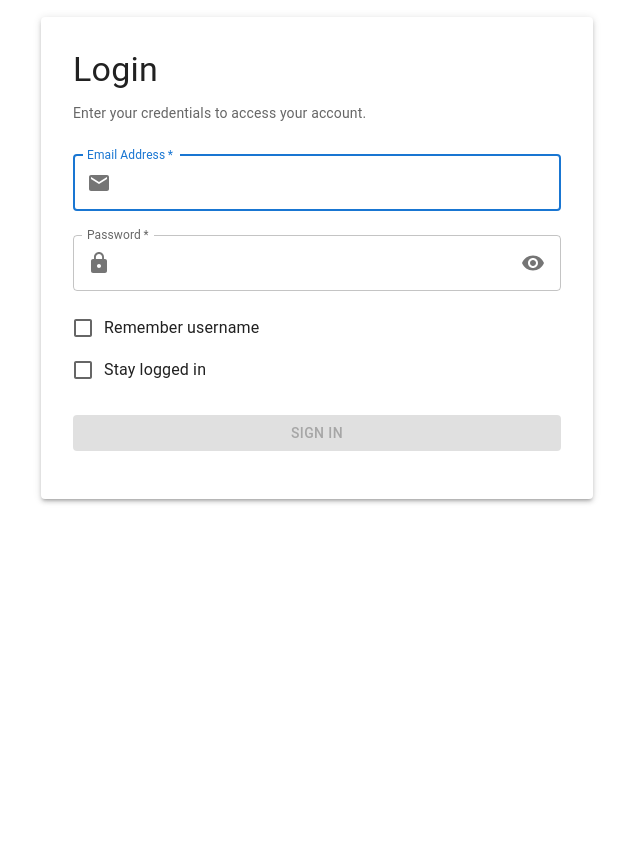
Test: Login Page › shows friendly network error message on network failure
Type "john@example.com" into the field with id "email" at [340, 183], box [119, 155, 561, 211]
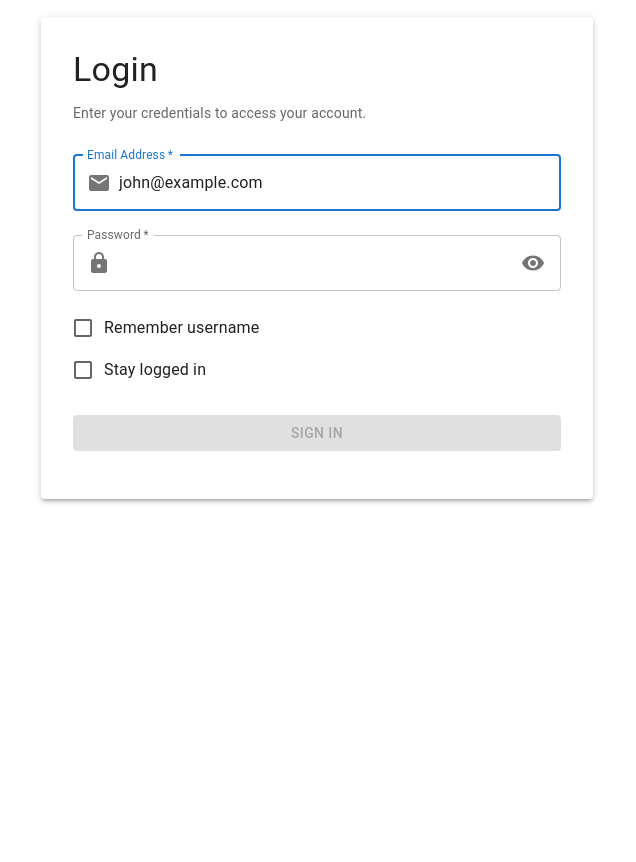
Type "Test123@" into the password field labelled "Password *" at [314, 263], box [119, 235, 508, 291]
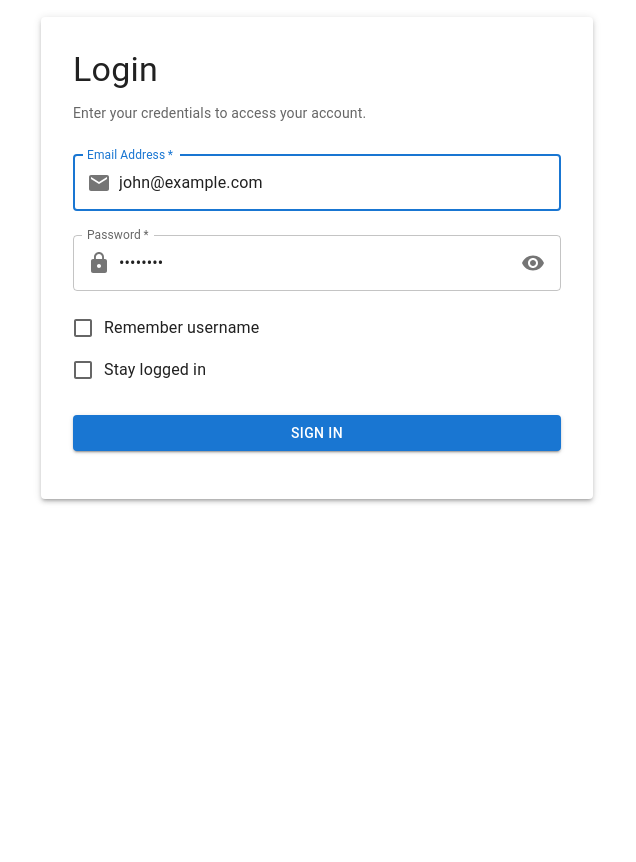
Click the button "Sign In" at [317, 433], box [73, 415, 561, 451]
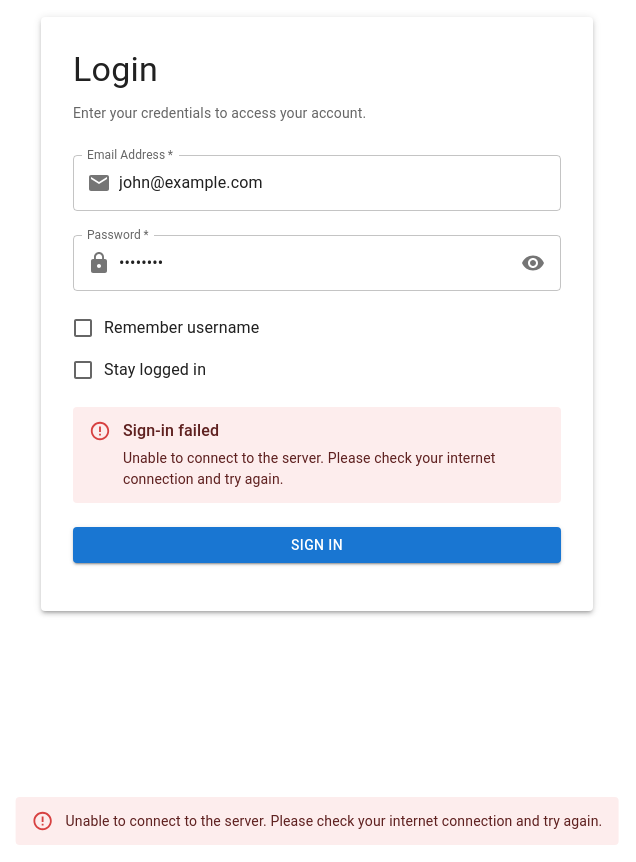
expect the text "Unable to connect to the server. Please check your internet connection and try again." is shown: met, box [123, 450, 496, 486]
